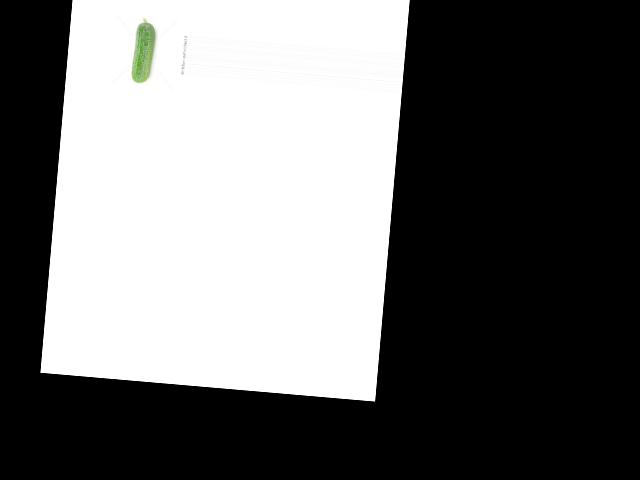cucumber: (131, 17, 156, 85)
